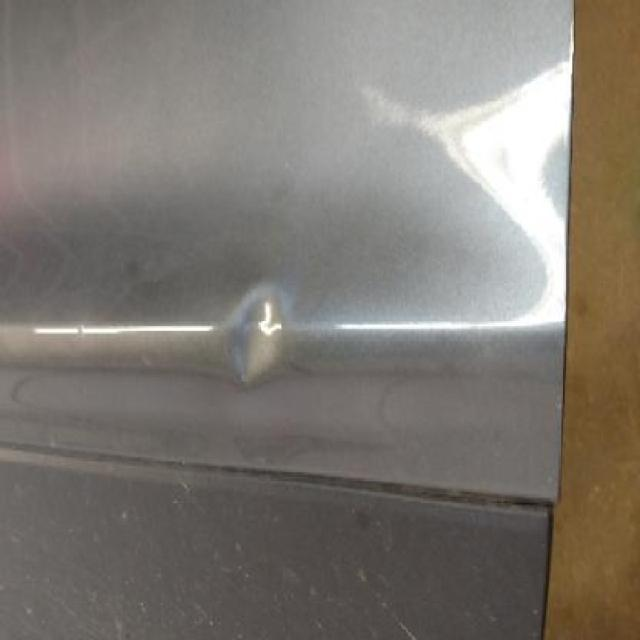dent: (226, 281, 293, 383)
